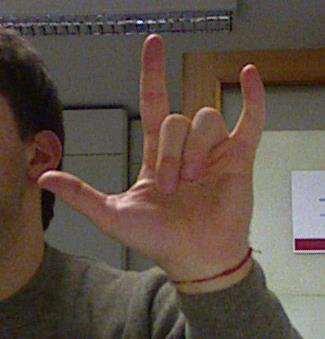back: (34, 27, 270, 261)
